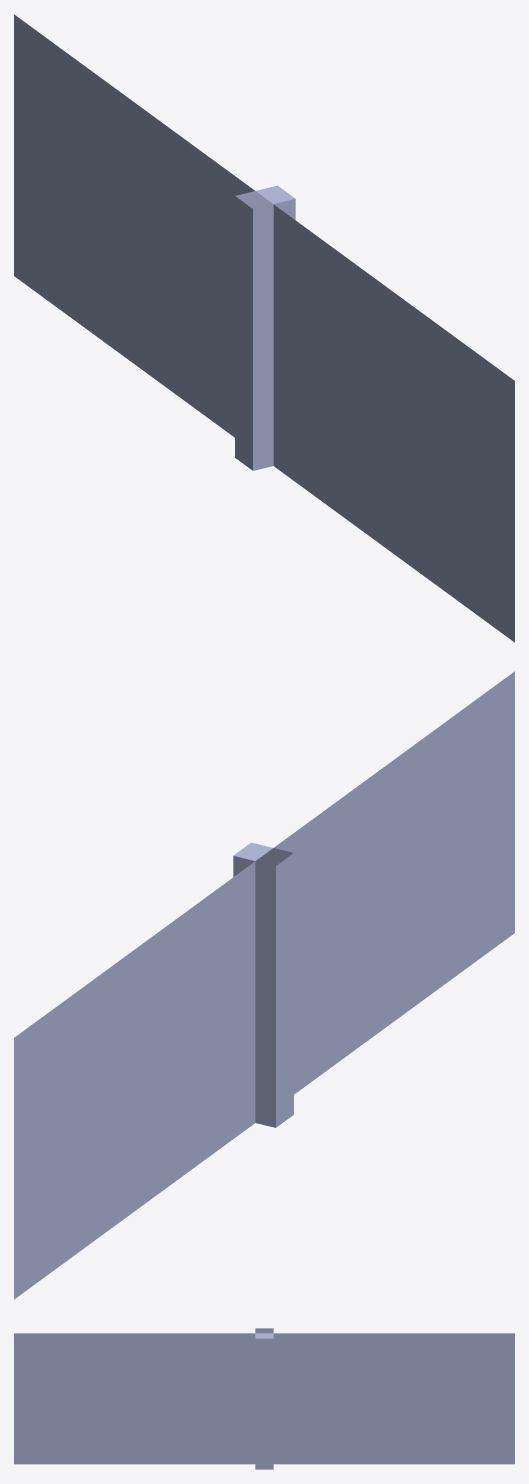
File: SM_Office_Double_Window_001.fbx
The picture shows the model from 3 angles, top to bottom: view 1: azimuth 30°, elevation 25°; view 2: azimuth 150°, elevation 25°; view 3: azimuth 270°, elevation 25°; orthographic projection. The views are drawn at different scales.
Visible parts, largest first — view 1: SM_Office_Double_Window_001; view 2: SM_Office_Double_Window_001; view 3: SM_Office_Double_Window_001.
Part boxes in pixels (x1,y1,x2,y2): SM_Office_Double_Window_001: (14, 14, 514, 642); SM_Office_Double_Window_001: (14, 671, 514, 1299); SM_Office_Double_Window_001: (14, 1328, 514, 1469).
Bounding box in the file's own units: 556 × 27.31 × 160.
